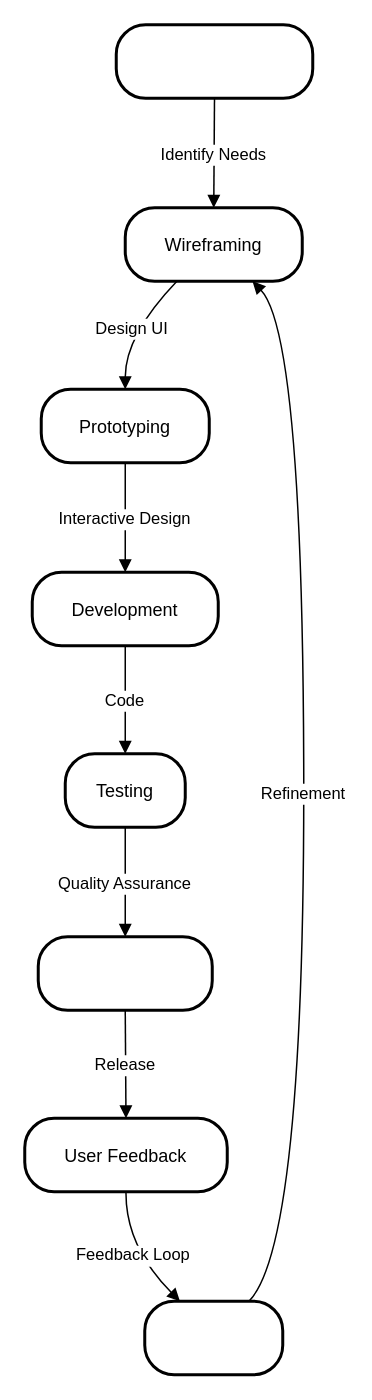
Some shapes in this 372 by 1400 pixel diagram are drawn without their labels. The shapes that lost their labels are listed below. From the top down, each one's box as (x1, y1, x2, y2) in pixels, then its label:
(114, 22, 314, 99): User Research
(36, 934, 213, 1011): Deployment
(142, 1299, 284, 1376): Iteration
